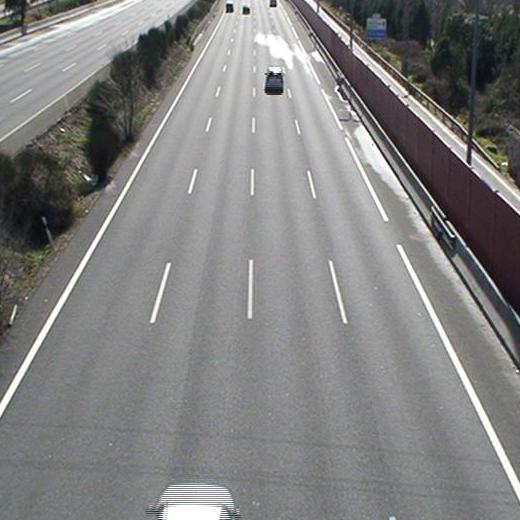car: (264, 66, 284, 92)
